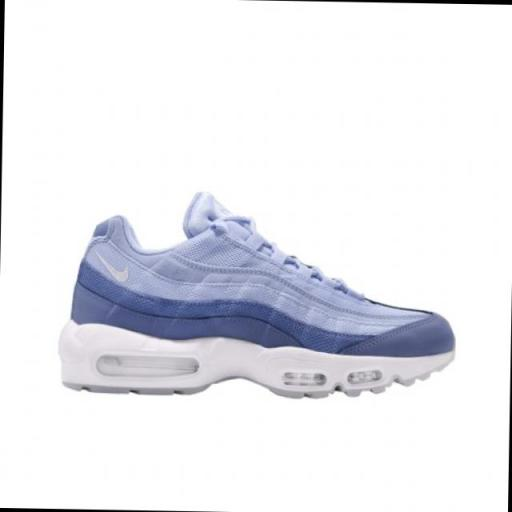Nike: (90, 247, 132, 286)
